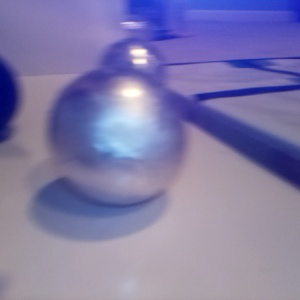alive_ball: (47, 65, 183, 205), (100, 37, 167, 102)
dead_ball: (1, 58, 20, 130)
